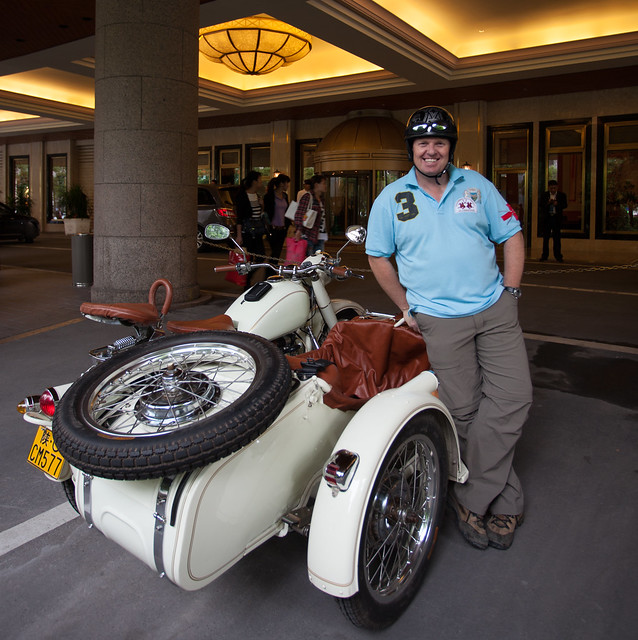helmet: (402, 100, 463, 141)
